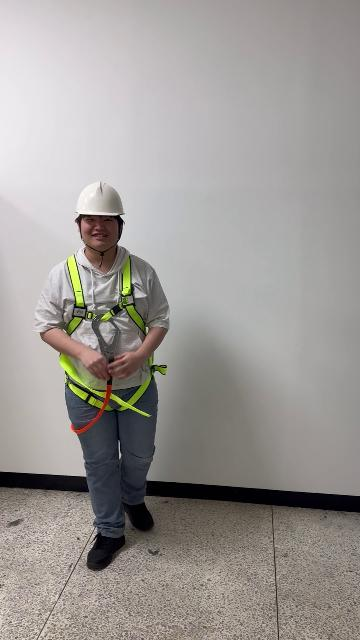helmet_worn: (75, 180, 127, 216)
shoe_not_worn: (86, 532, 125, 571), (123, 501, 154, 531)
vest_worn: (54, 255, 165, 419)
